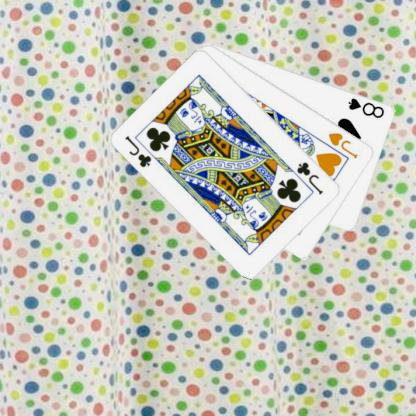8S: (346, 94, 386, 119)
JC: (122, 132, 154, 168), (294, 159, 325, 196)
JH: (326, 130, 359, 160)
